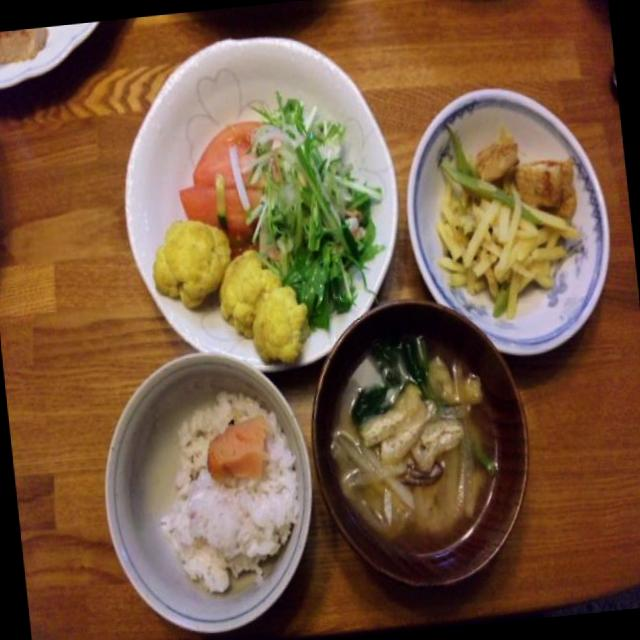Rice: (150, 386, 320, 600)
